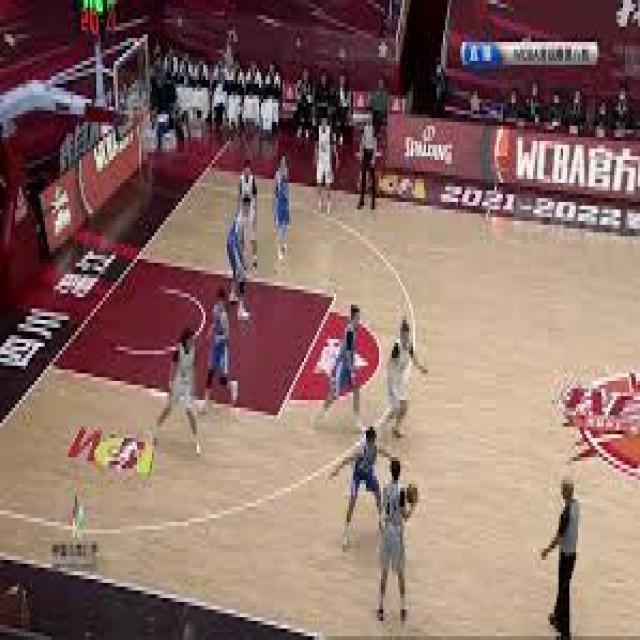rim: (406, 480, 419, 507)
